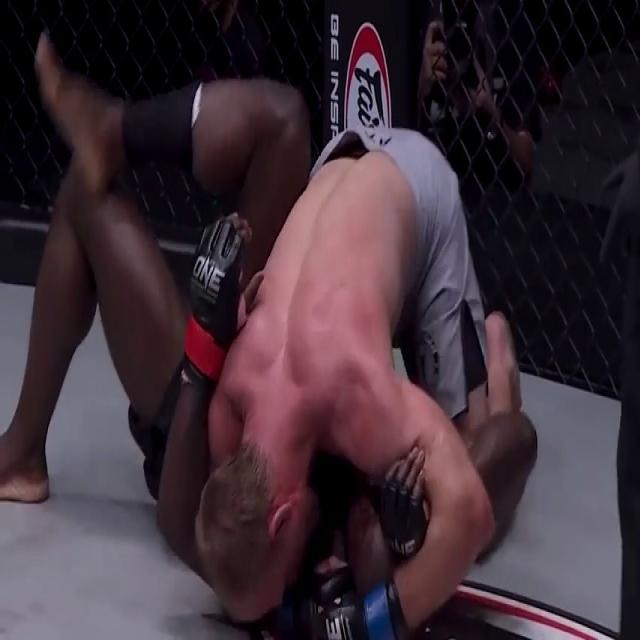fight: (0, 12, 552, 639)
